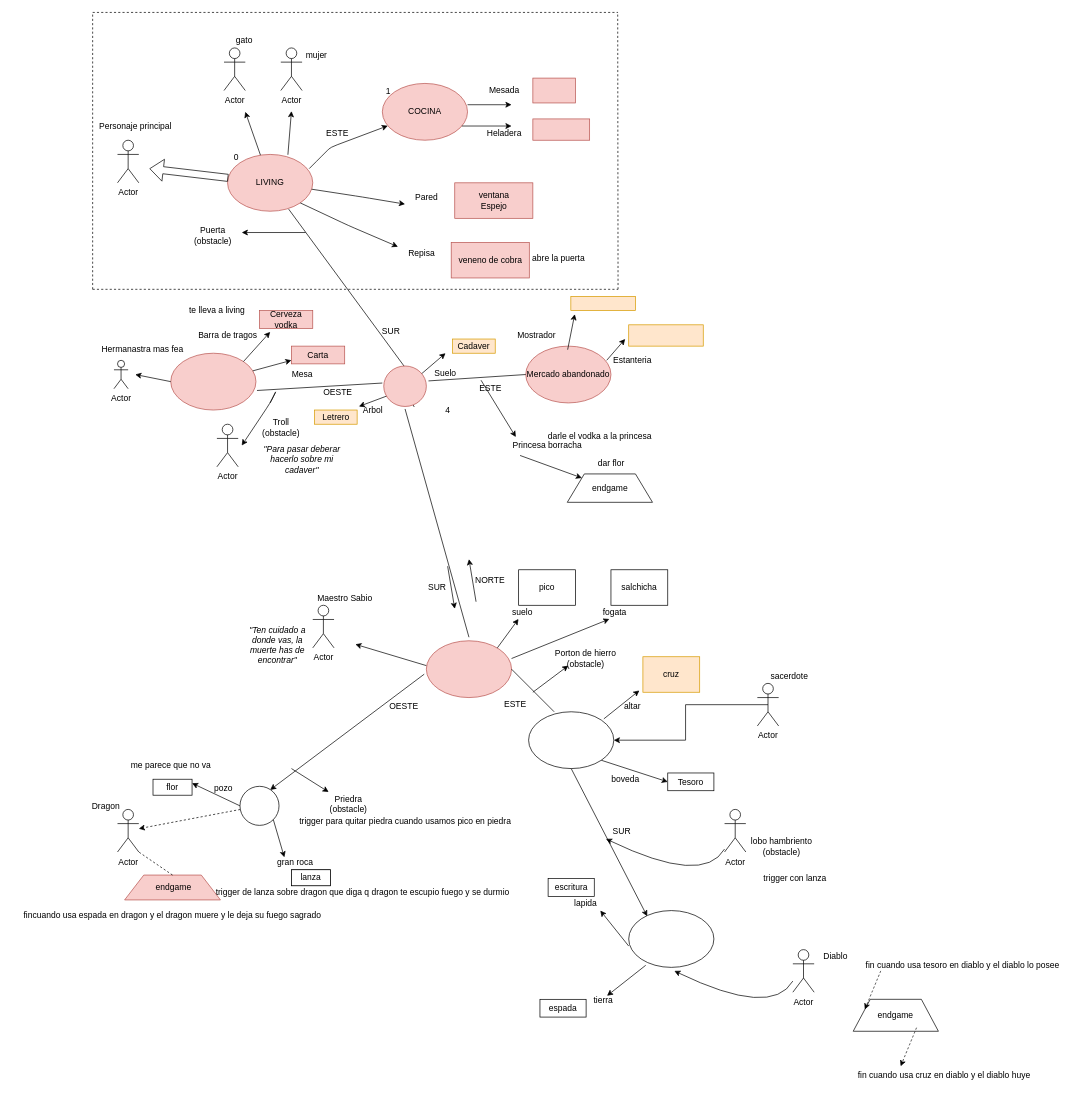
This 1081x1104 diagram has some shape labels left out. Here are the shapes that lost their labels. From the top down, the centre of each, then its label:
[553,90]: cuchicllo
[561,129]: Sanguche de Atun
[602,303]: llave esmeralda
[665,335]: manzana
[213,381]: Bar
[404,385]: Camino
[469,669]: Campamento siniestro
[571,740]: Templo
[259,805]: Cueva
[671,938]: tumba
